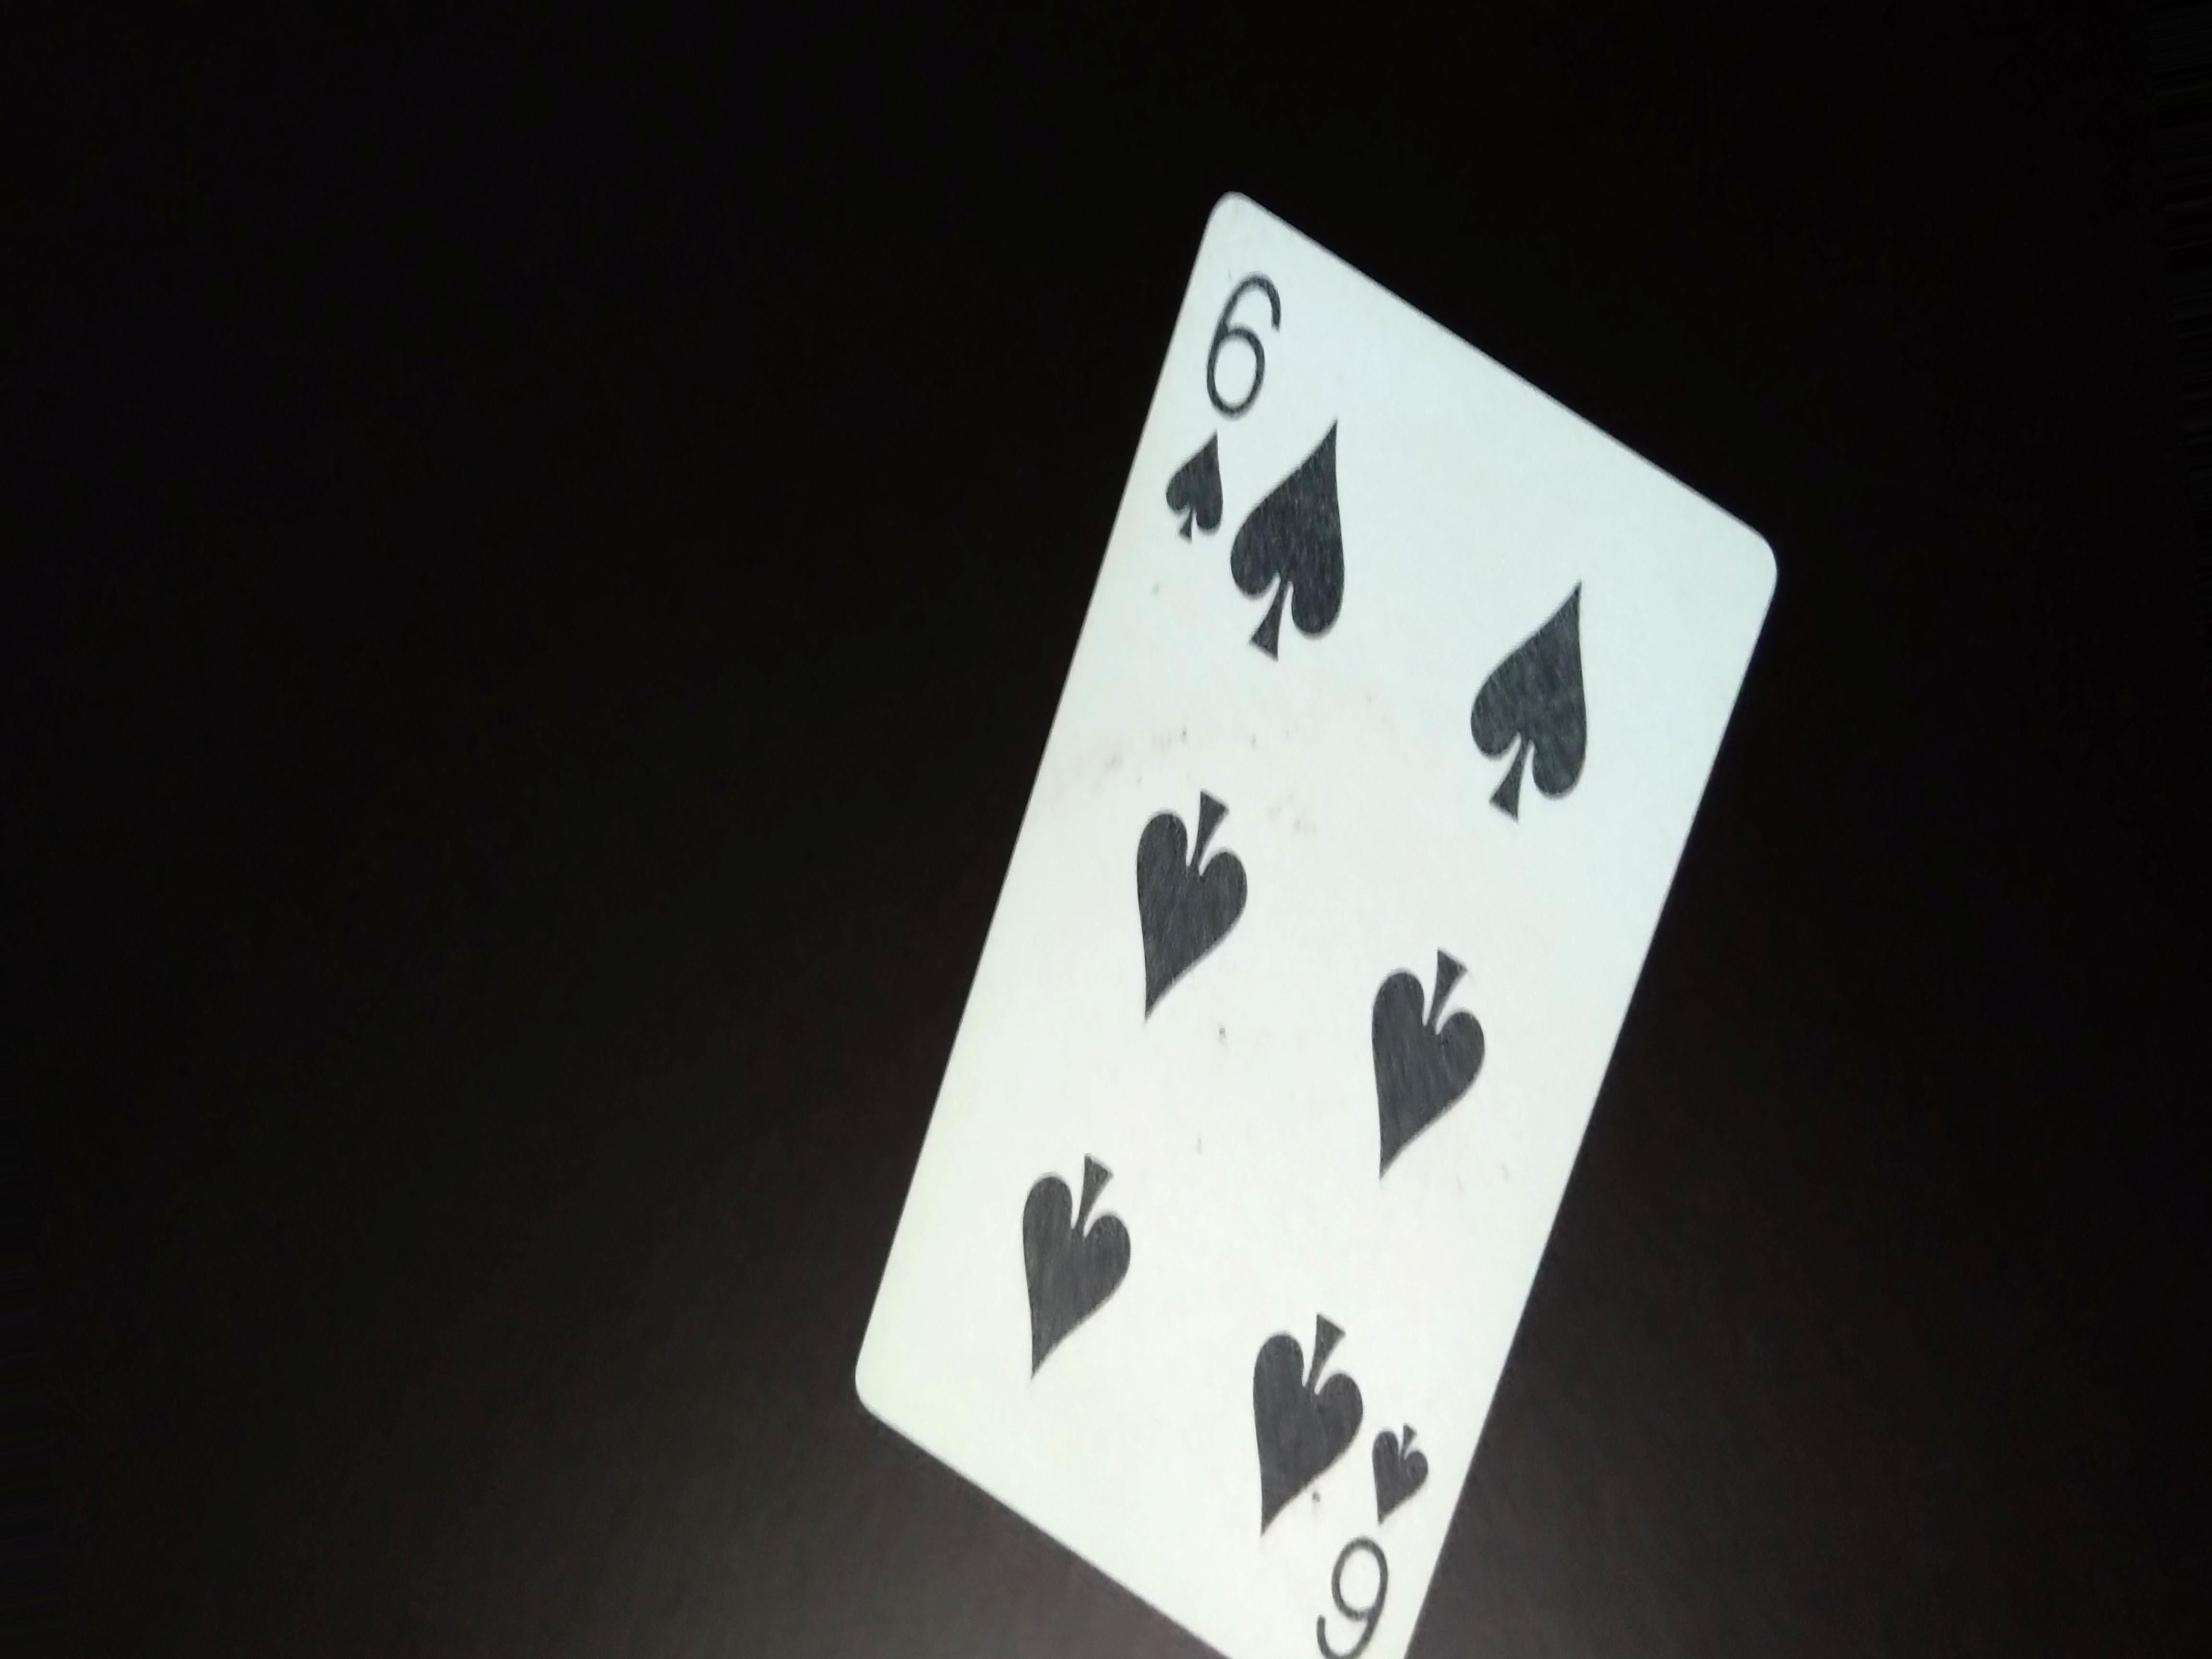6S: (1155, 251, 1298, 547)
